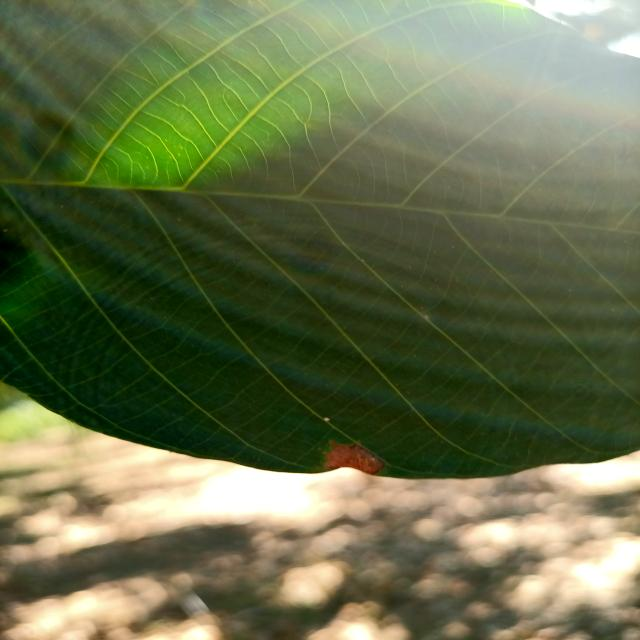Leaf-Blight: (323, 442, 384, 474)
